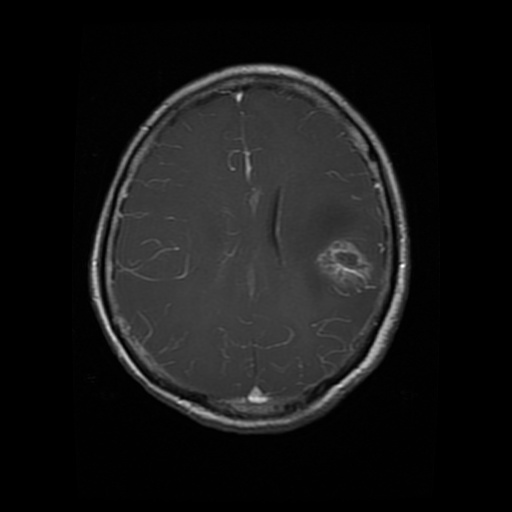glioma: (319, 237, 374, 290)
